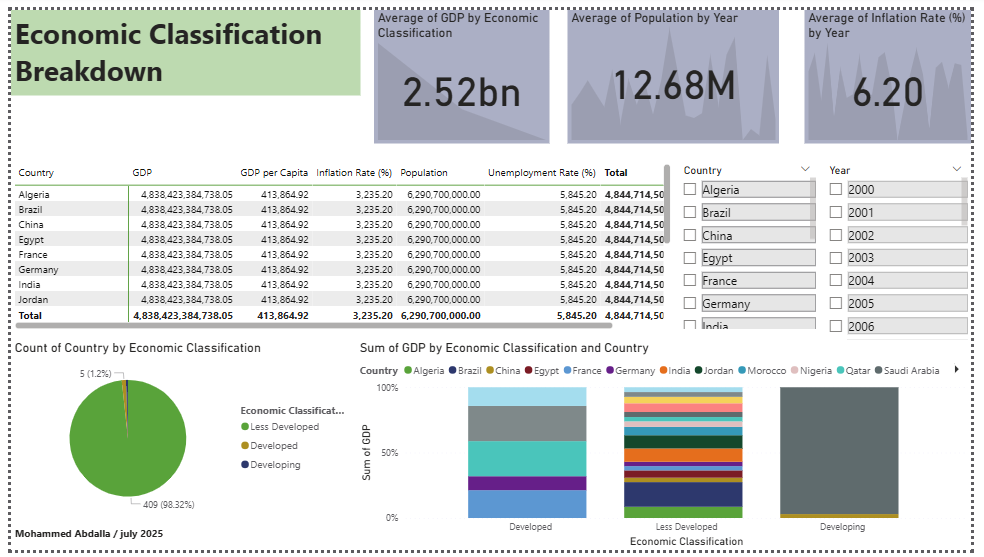

The dashboard page shown, as its layout file describes it:
{"tool":"powerbi","page":{"name":"Economic Classification Breakdown","canvas":[1280,720],"ordinal":3},"visuals":[{"type":"slicer","fields":{"Values":["original.Year"]},"box":[1078,200,202,256],"z":0},{"type":"slicer","fields":{"Values":["original.Country"]},"box":[884,200,194,230],"z":1000},{"type":"pieChart","fields":{"Category":["original.Economic Classification"],"Y":["CountNonNull(original.Country)"]},"box":[0,440,450,242],"z":2000},{"type":"hundredPercentStackedColumnChart","fields":{"Category":["original.Economic Classification"],"Y":["Sum(original.GDP)"],"Series":["original.Country"]},"box":[460,440,820,280],"z":3000},{"type":"kpi","fields":{"Indicator":["Avg(original.GDP)"],"TrendLine":["original.Economic Classification"]},"box":[484,0,234,178],"z":4000},{"type":"kpi","fields":{"Indicator":["Avg(original.Population)"],"TrendLine":["original.Year"]},"box":[742,0,282,178],"z":5000},{"type":"kpi","fields":{"Indicator":["Avg(original.Inflation Rate (%))"],"TrendLine":["original.Year"]},"box":[1058,0,222,178],"z":6000},{"type":"pivotTable","fields":{"Rows":["original.Country"],"Columns":["unpivot.Indicator"],"Values":["Sum(unpivot.Indicator Value)"]},"box":[0,200,884,230],"z":7000},{"type":"textbox","box":[0,0,466,114],"z":8000},{"type":"textbox","box":[0,682,234,38],"z":8001}]}

Visuals, with their boxes in screenshot pixels (x1, y1, x2, y2), scaled from the page's 1280x720 canvas onto the 984x557 screenshot:
slicer - original.Year: detection(829, 155, 983, 353)
slicer - original.Country: detection(680, 155, 829, 333)
pieChart - original.Economic Classification x CountNonNull(original.Country): detection(0, 340, 346, 528)
hundredPercentStackedColumnChart - original.Economic Classification x Sum(original.GDP): detection(354, 340, 983, 556)
kpi - Avg(original.GDP) x original.Economic Classification: detection(372, 0, 552, 138)
kpi - Avg(original.Population) x original.Year: detection(570, 0, 787, 138)
kpi - Avg(original.Inflation Rate (%)) x original.Year: detection(813, 0, 983, 138)
pivotTable - original.Country x unpivot.Indicator: detection(0, 155, 680, 333)
textbox: detection(0, 0, 358, 88)
textbox: detection(0, 528, 180, 556)
